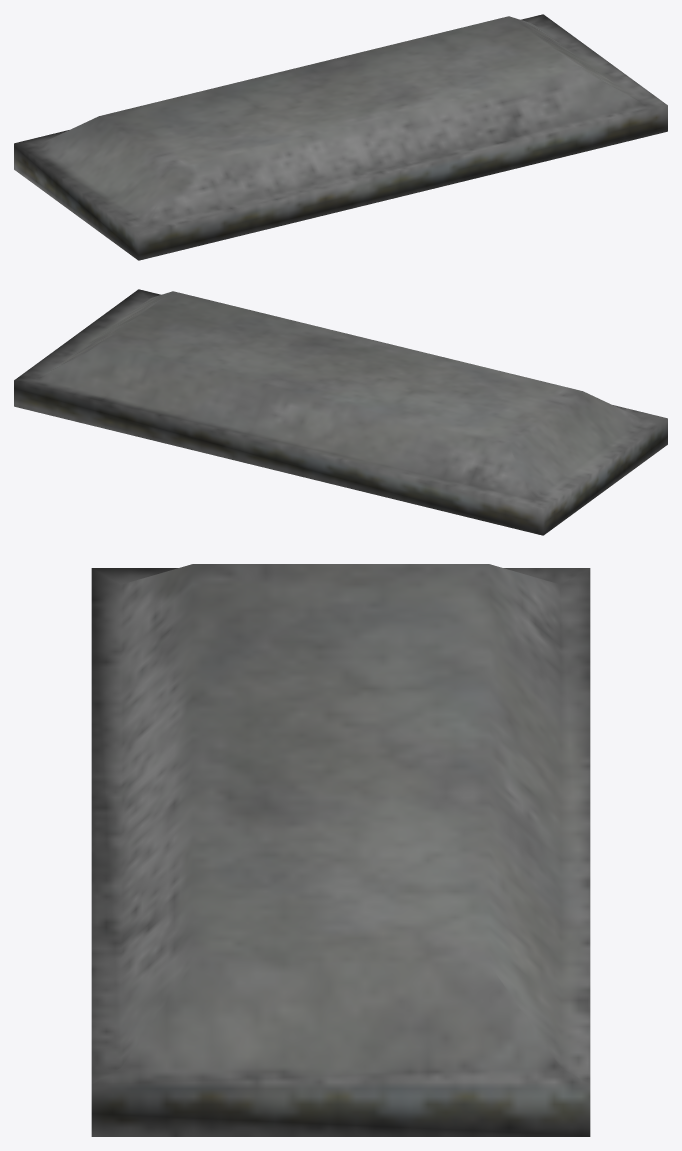
The model's file is dc1_coffin_lid.glb.
The picture shows the model from 3 angles, top to bottom: view 1: azimuth 30°, elevation 25°; view 2: azimuth 150°, elevation 25°; view 3: azimuth 270°, elevation 25°; orthographic projection. The views are drawn at different scales.
Visible parts, largest first — view 1: coffin lid; view 2: coffin lid; view 3: coffin lid.
Boxes of the visible parts, box(x1,y1,x2,y2) form: coffin lid: box(14, 14, 667, 260); coffin lid: box(14, 289, 667, 535); coffin lid: box(91, 564, 590, 1136).
Bounding box in the file's own units: 2.03 × 0.21 × 0.8289.
1 material, 1 textured.
